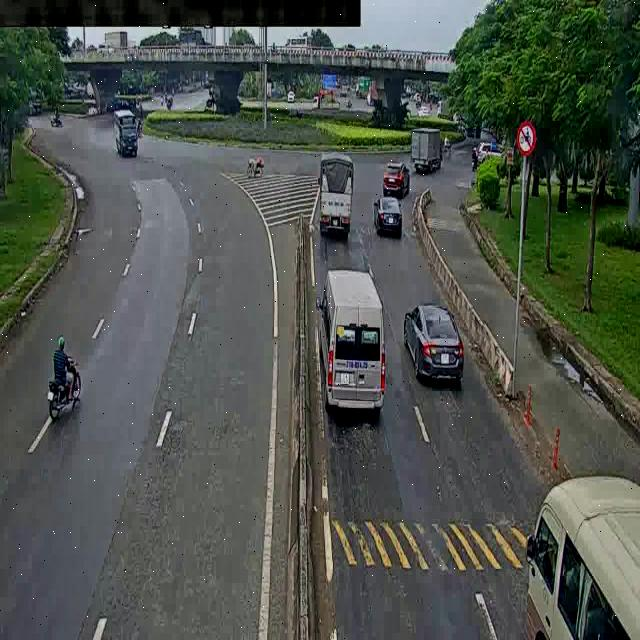bicycle: (48, 104, 68, 135), (245, 154, 267, 181)
car: (397, 299, 460, 394), (376, 189, 406, 230)
motorbike: (37, 325, 97, 440)
truck: (487, 430, 640, 640), (305, 266, 396, 437), (310, 144, 355, 241), (98, 105, 149, 162), (412, 124, 442, 183)
